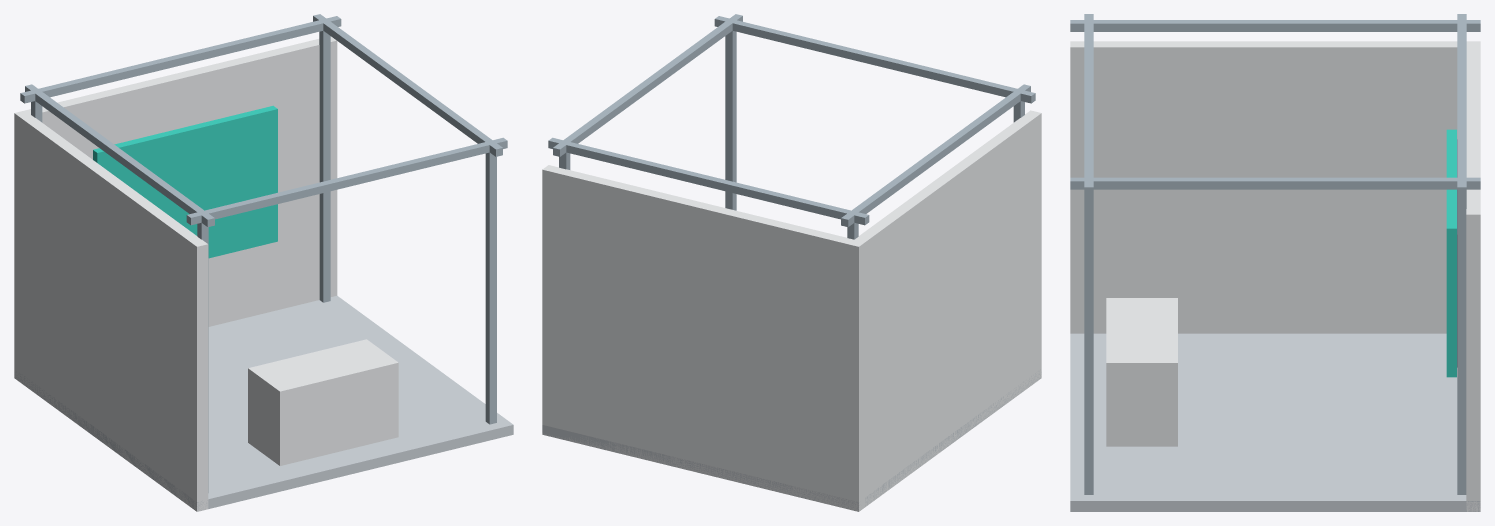
3 views of the same model, side by side, from view 1: azimuth 30°, elevation 25°; view 2: azimuth 150°, elevation 25°; view 3: azimuth 270°, elevation 25° (orthographic). The views are drawn at different scales.
Visible parts, largest first — view 1: Exhibition Booth Concept; view 2: Exhibition Booth Concept; view 3: Exhibition Booth Concept.
Boxes of the visible parts, x1=… form: Exhibition Booth Concept: x1=14, y1=14, x2=513, y2=511; Exhibition Booth Concept: x1=542, y1=14, x2=1041, y2=511; Exhibition Booth Concept: x1=1070, y1=14, x2=1480, y2=511.
Size of the model in its own units: 4 by 3.49 by 4.
